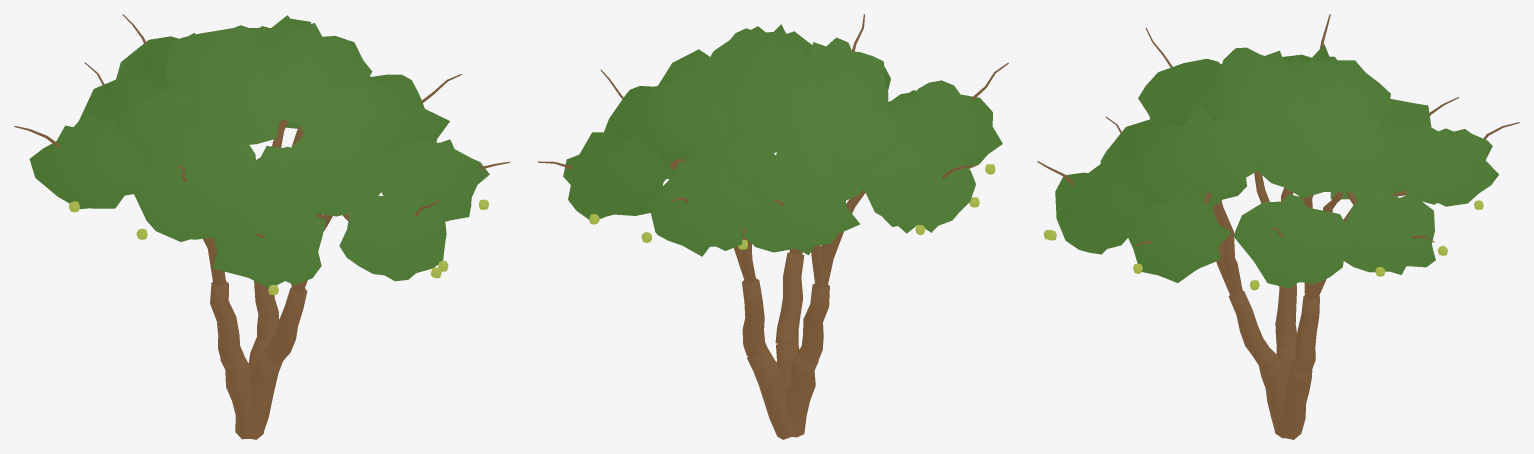
The model's file is Blender_OsageOrange_1.glb.
3 renders of one model, left to right at view 1: azimuth 30°, elevation 25°; view 2: azimuth 150°, elevation 25°; view 3: azimuth 270°, elevation 25°, orthographic. The views are drawn at different scales.
Parts seen in each view (by area): view 1: Blender_OsageOrange_1; view 2: Blender_OsageOrange_1; view 3: Blender_OsageOrange_1.
Boxes of the visible parts, left/top/right/bottom form: Blender_OsageOrange_1: left=14, top=14, right=509, bottom=439; Blender_OsageOrange_1: left=538, top=14, right=1008, bottom=439; Blender_OsageOrange_1: left=1037, top=14, right=1519, bottom=439.
Bounding box in the file's own units: 13.6 × 12.45 × 14.59.
